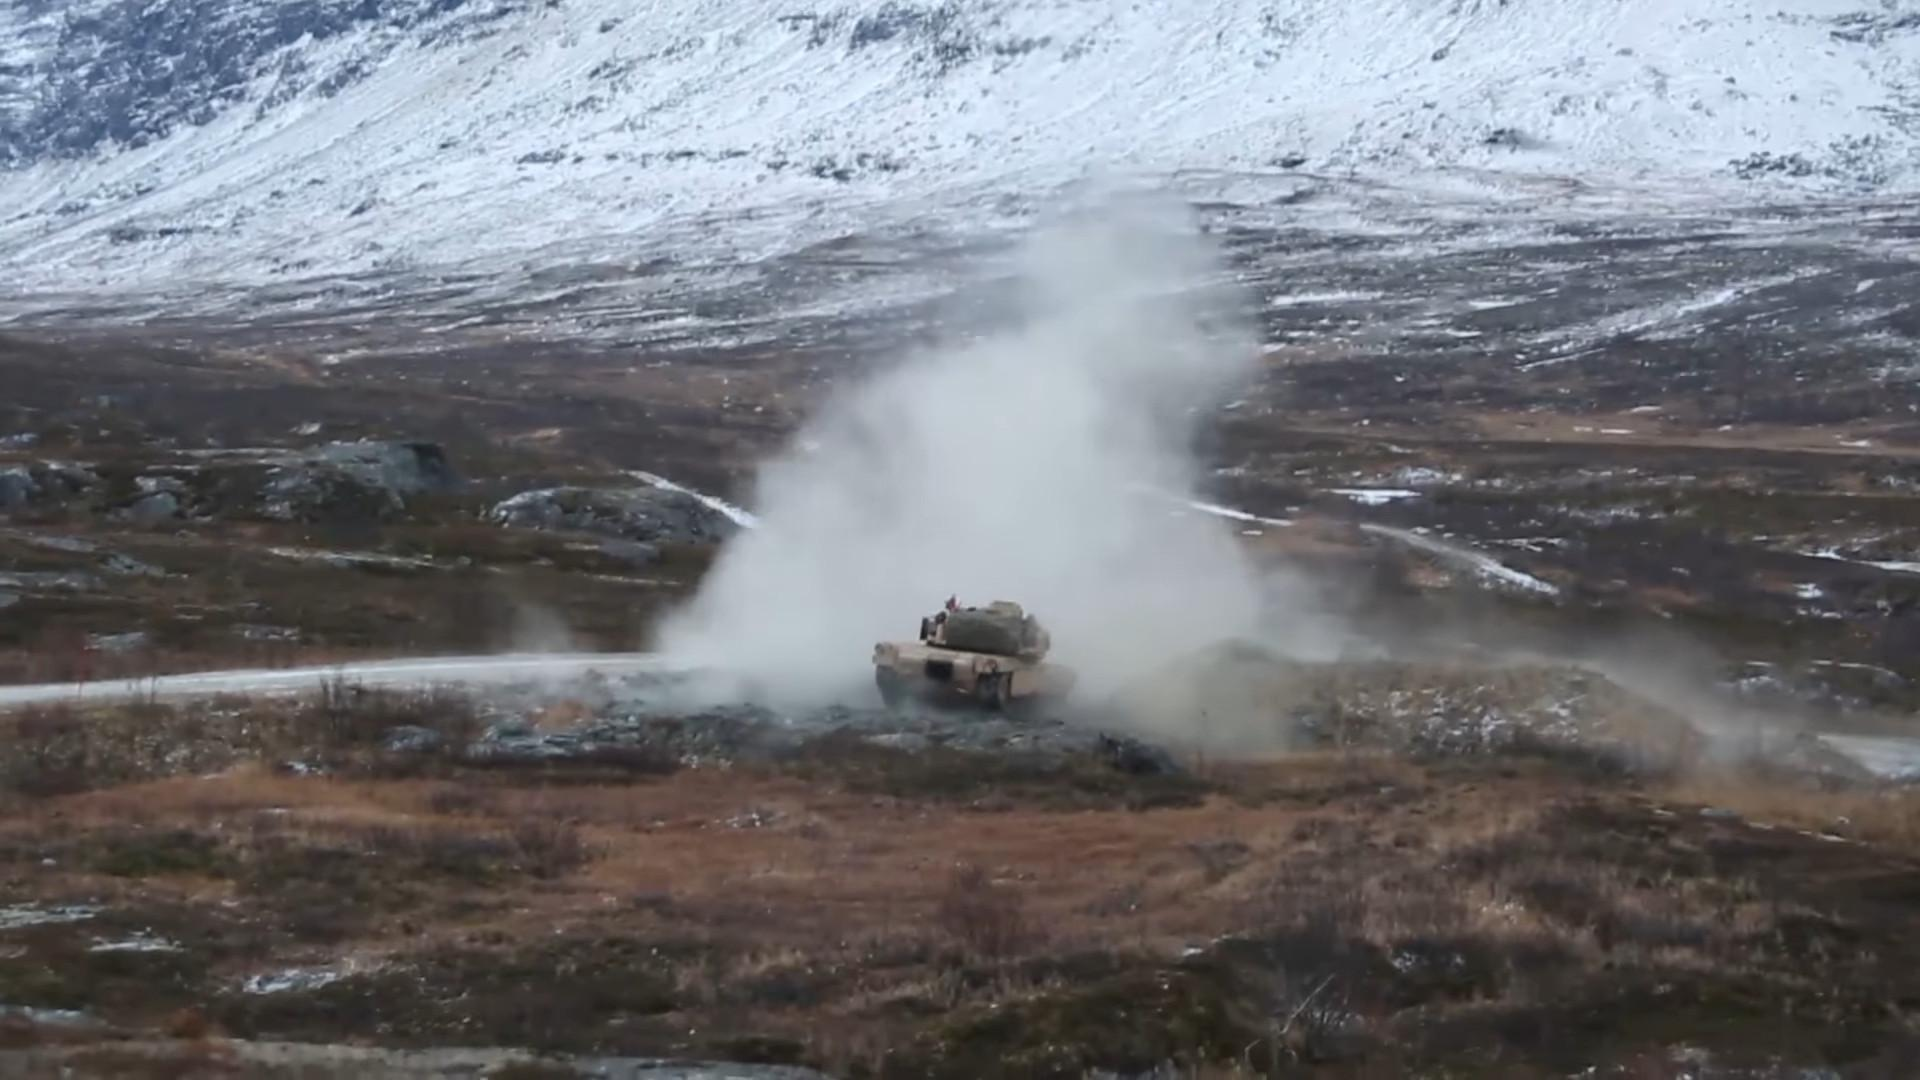tank: (872, 603, 1076, 713)
